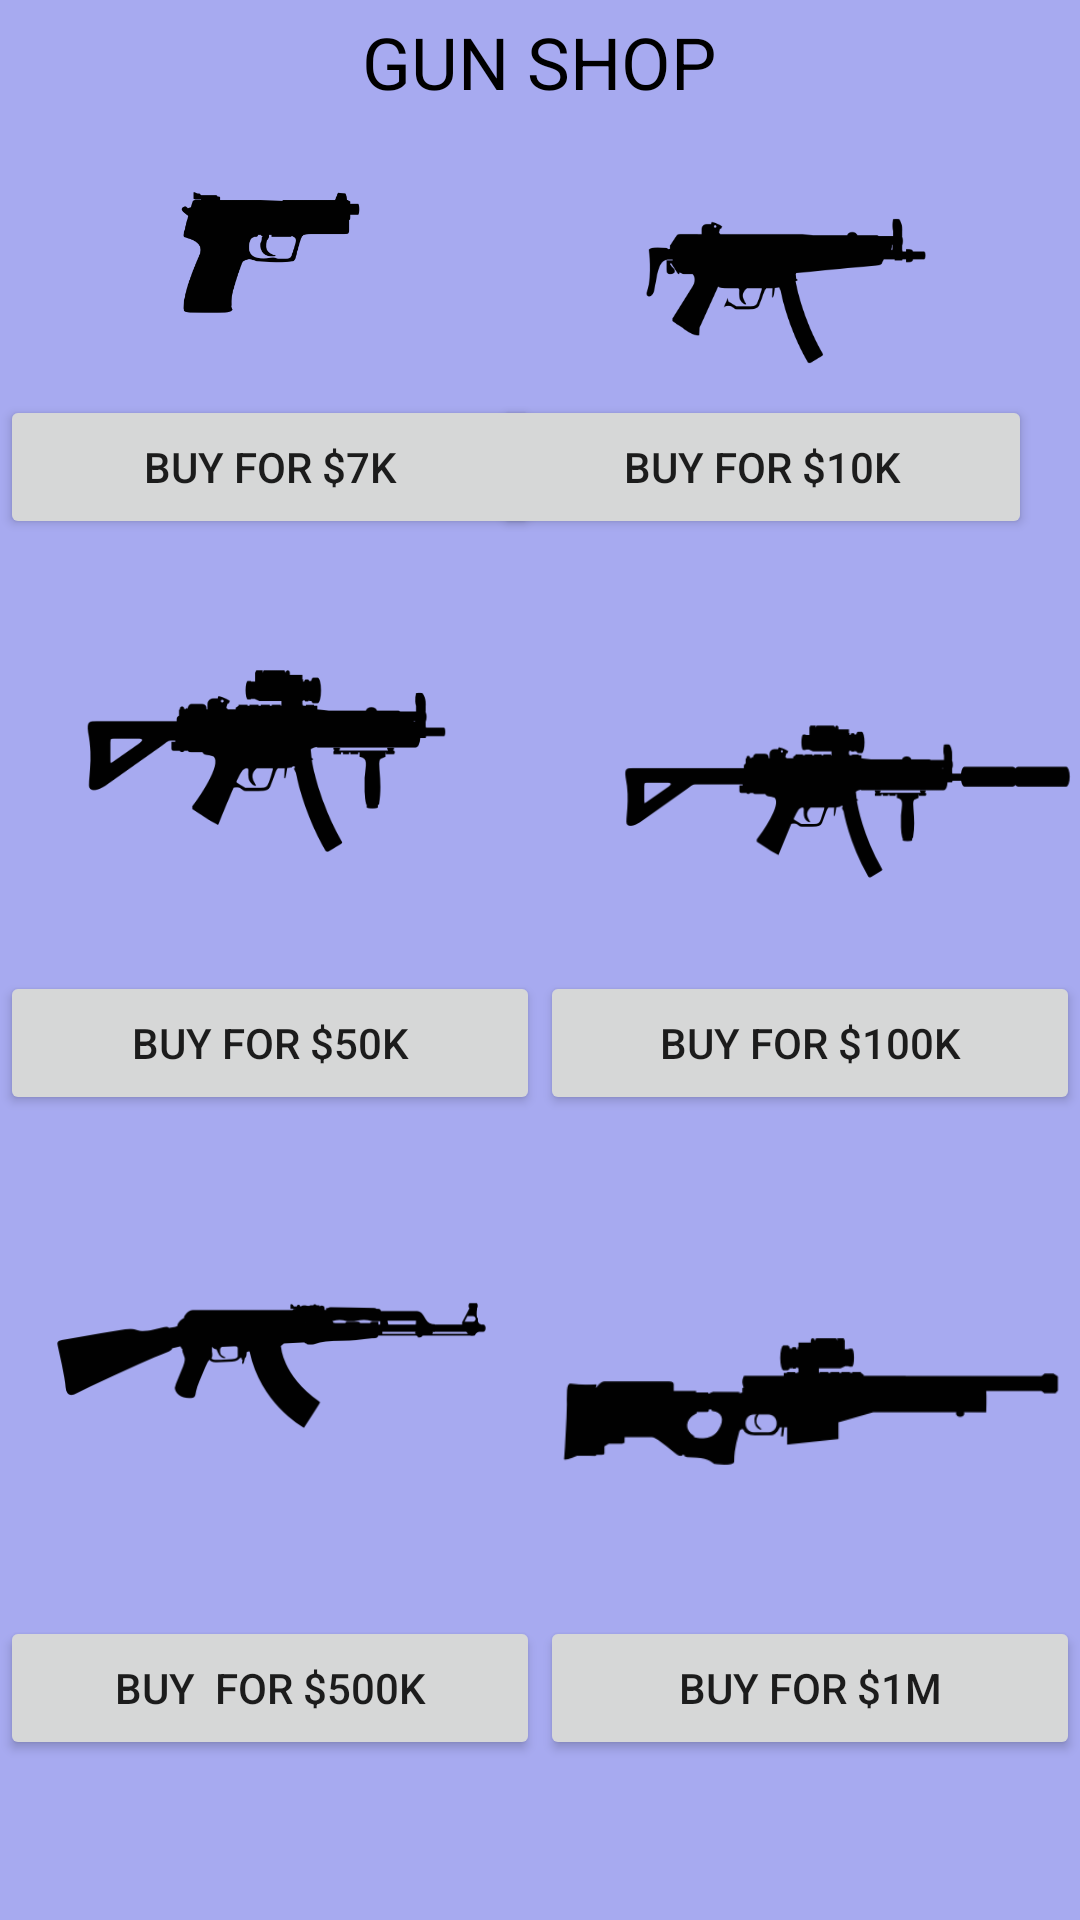

Screen size 1080×1920. Icon name, then its box in pixels as (x1, y1, x2, y2):
pistol: (181, 192, 360, 313)
